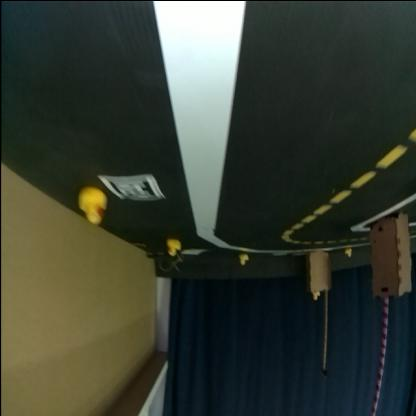Duckie: (79, 188, 107, 224), (168, 240, 180, 256), (241, 255, 249, 265), (313, 292, 319, 300), (346, 250, 352, 258)
QR code: (98, 174, 164, 200)
